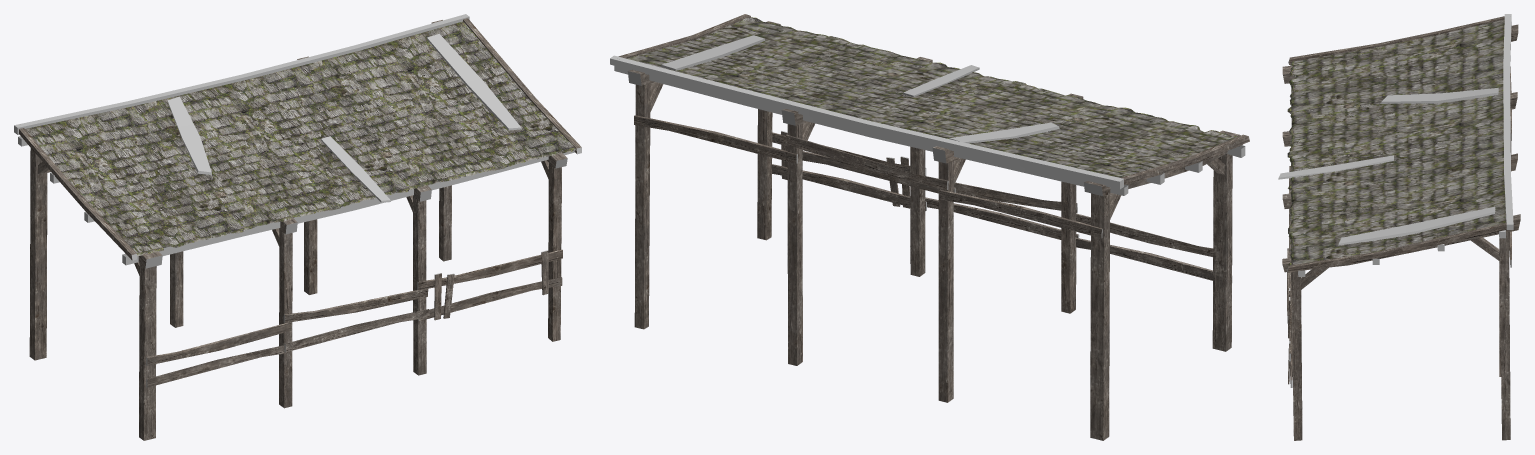
Rendered from Shed8.fbx.
The picture shows the model from 3 angles, left to right: view 1: azimuth 30°, elevation 25°; view 2: azimuth 150°, elevation 25°; view 3: azimuth 270°, elevation 25°; orthographic projection. The views are drawn at different scales.
Visible parts, largest first — view 1: polySurface1161; view 2: polySurface1161; view 3: polySurface1161.
Part boxes in pixels (x1,y1,x2,y2): polySurface1161: (14,14,581,440); polySurface1161: (610,14,1249,440); polySurface1161: (1278,14,1520,440).
Size of the model in its own units: 11.77 by 5.88 by 5.72.
